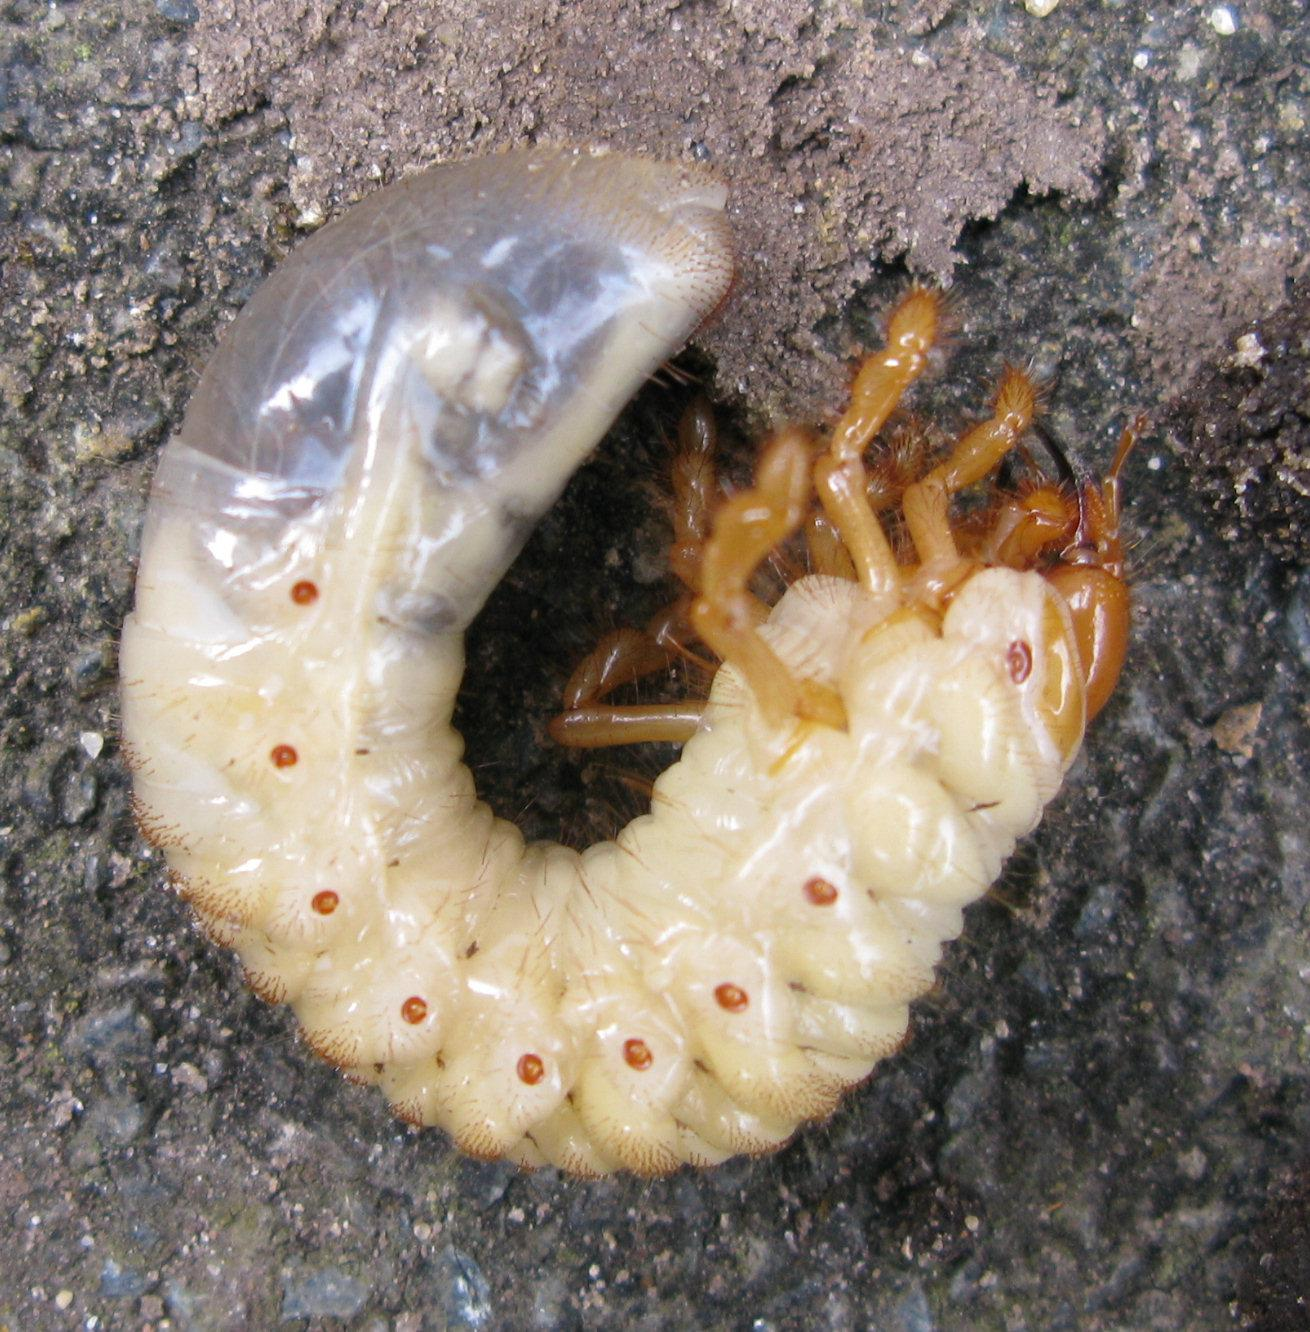grub: (119, 122, 1171, 1160)
